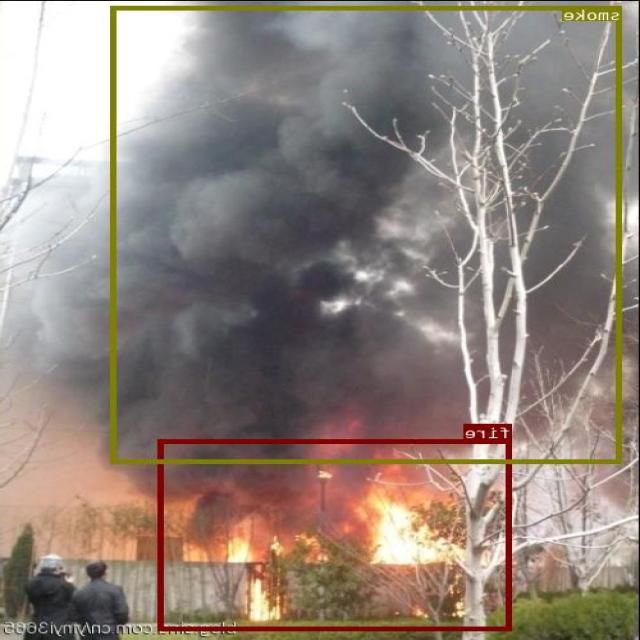fire: (159, 439, 513, 630)
smoke: (112, 5, 622, 463)
